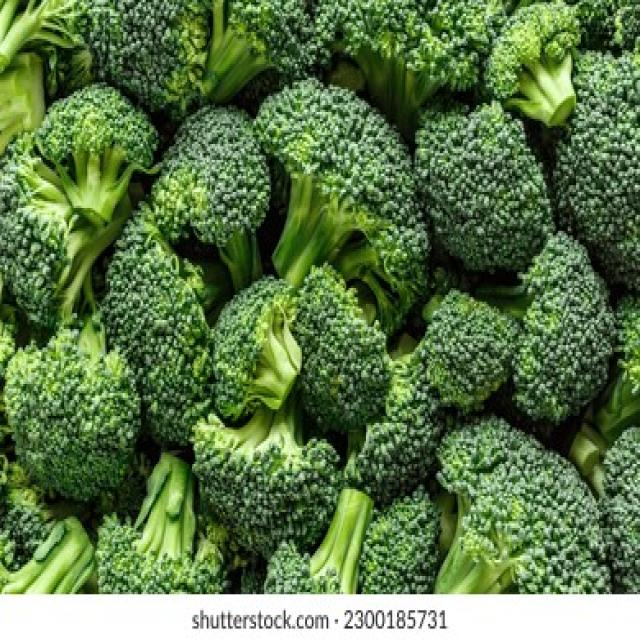broccoli: (89, 0, 639, 594), (104, 35, 639, 557)
